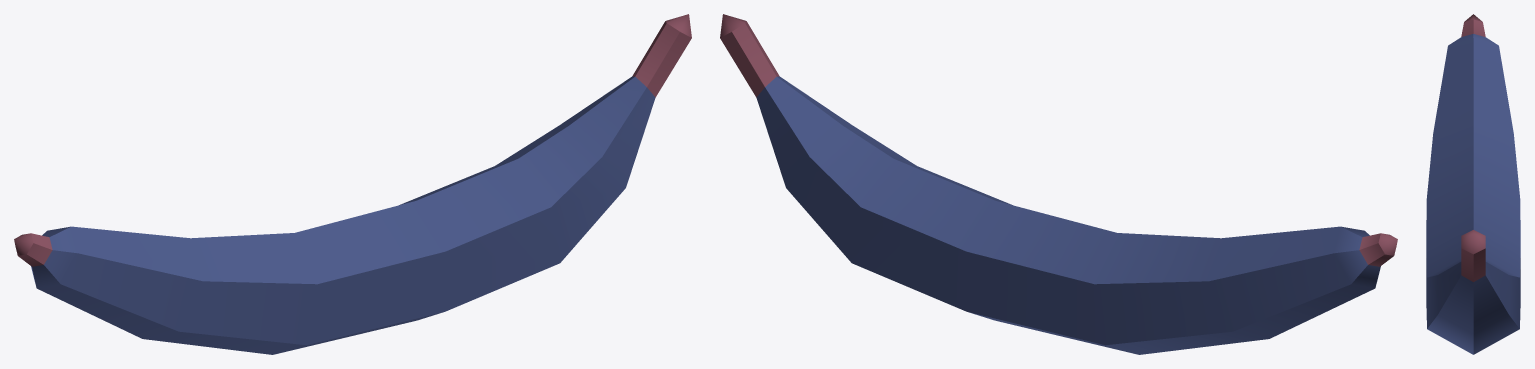
File: banana.fbx
3 renders of one model, left to right at view 1: azimuth 30°, elevation 25°; view 2: azimuth 150°, elevation 25°; view 3: azimuth 270°, elevation 25°, orthographic. The views are drawn at different scales.
Visible parts, largest first — view 1: banan; view 2: banan; view 3: banan.
Part boxes in pixels (box(x1,y1,x2,y2)): banan: box(14, 14, 691, 354); banan: box(720, 14, 1397, 354); banan: box(1426, 14, 1520, 354).
Size of the model in its own units: 0.6377 by 0.2164 by 0.0936.
